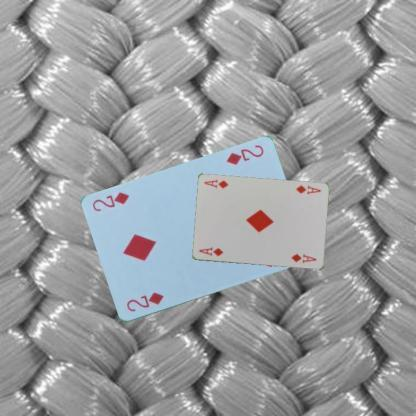2d: (224, 142, 264, 168), (124, 290, 166, 314)
Ad: (293, 182, 322, 196), (196, 244, 224, 258)
